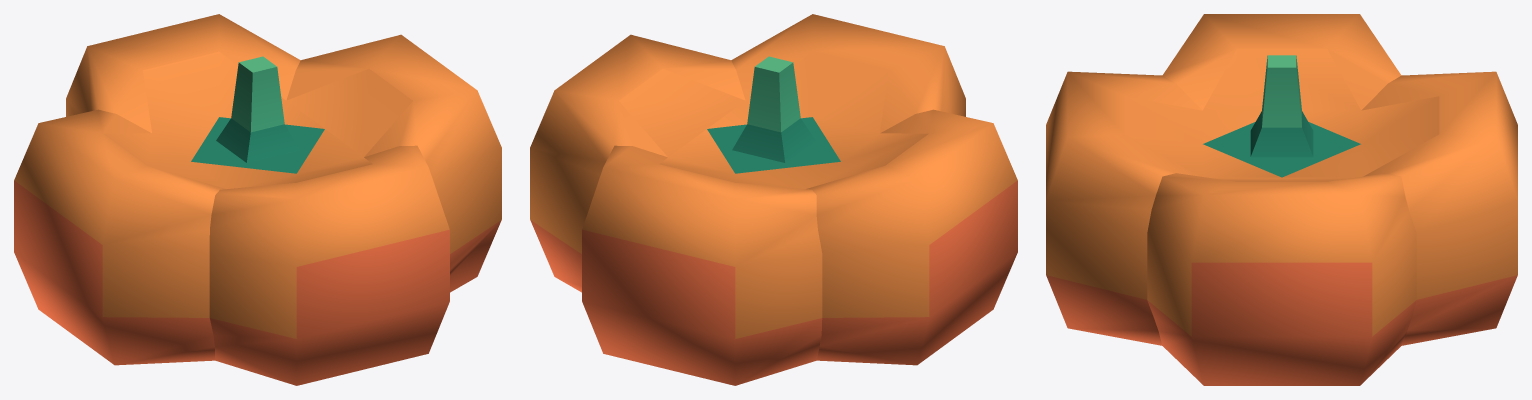
Rendered from abobora.glb.
The picture shows the model from 3 angles, left to right: view 1: azimuth 30°, elevation 25°; view 2: azimuth 150°, elevation 25°; view 3: azimuth 270°, elevation 25°; orthographic projection. The views are drawn at different scales.
Visible parts, largest first — view 1: pumpkin; view 2: pumpkin; view 3: pumpkin.
Part boxes in pixels (<box>): pumpkin: <box>14,14,501,385</box>; pumpkin: <box>530,14,1017,385</box>; pumpkin: <box>1046,14,1517,385</box>.
Size of the model in its own units: 0.4189 by 0.2292 by 0.4189.
